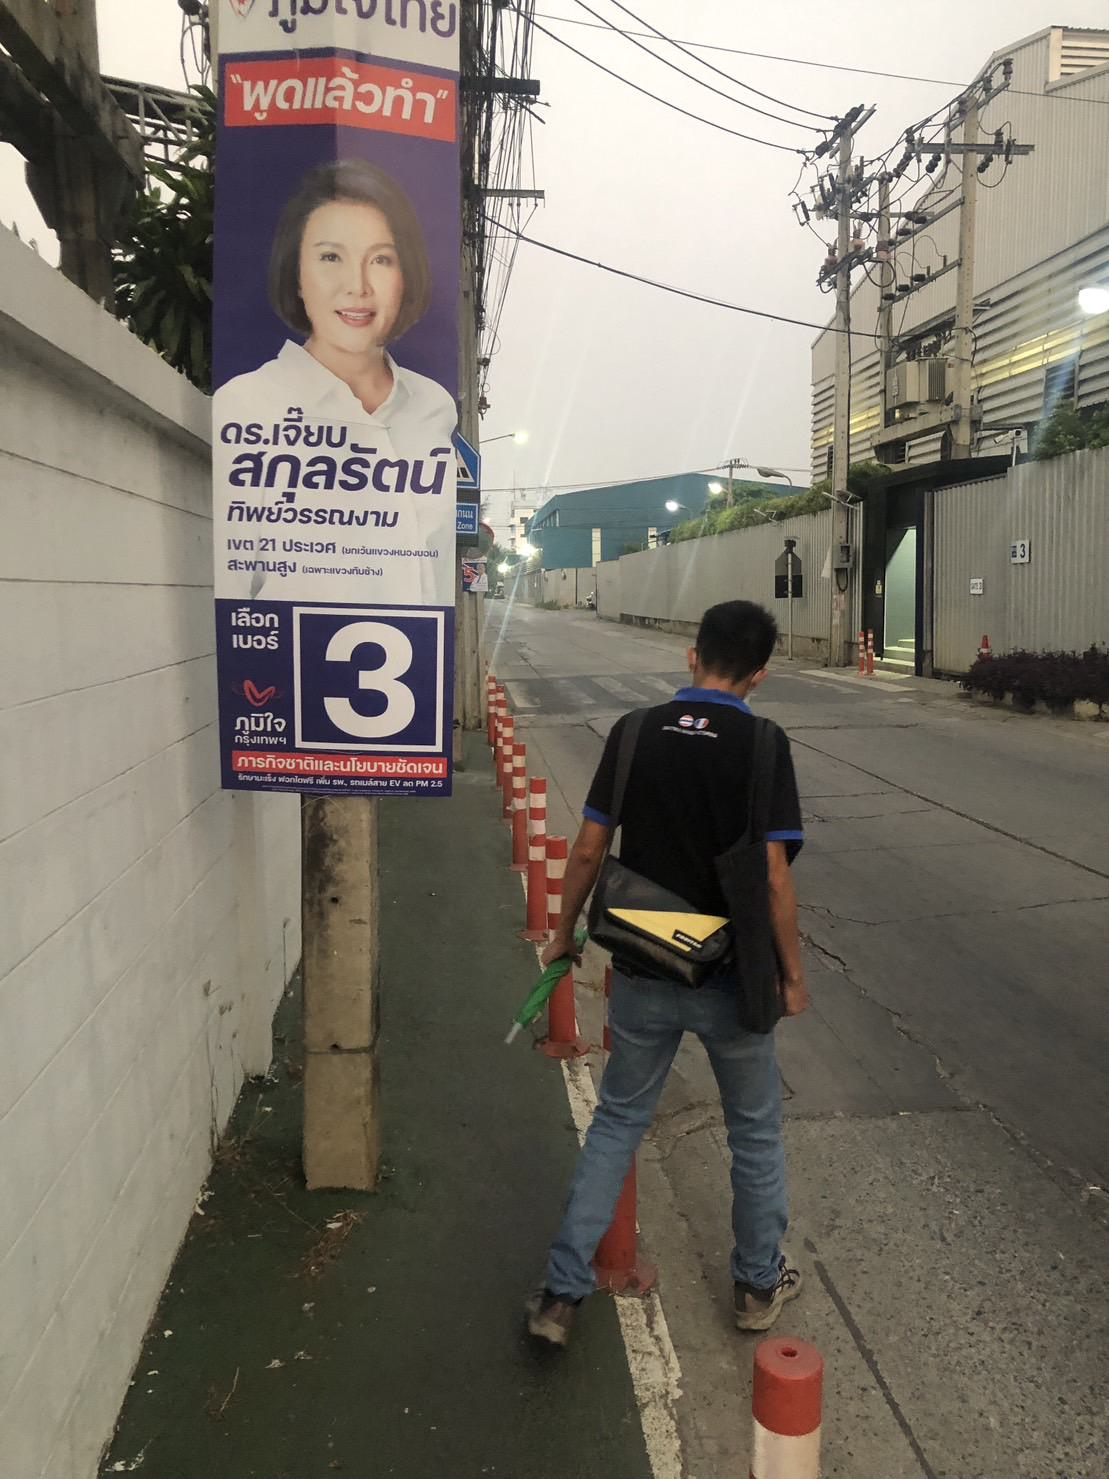Banner: (207, 0, 478, 799)
